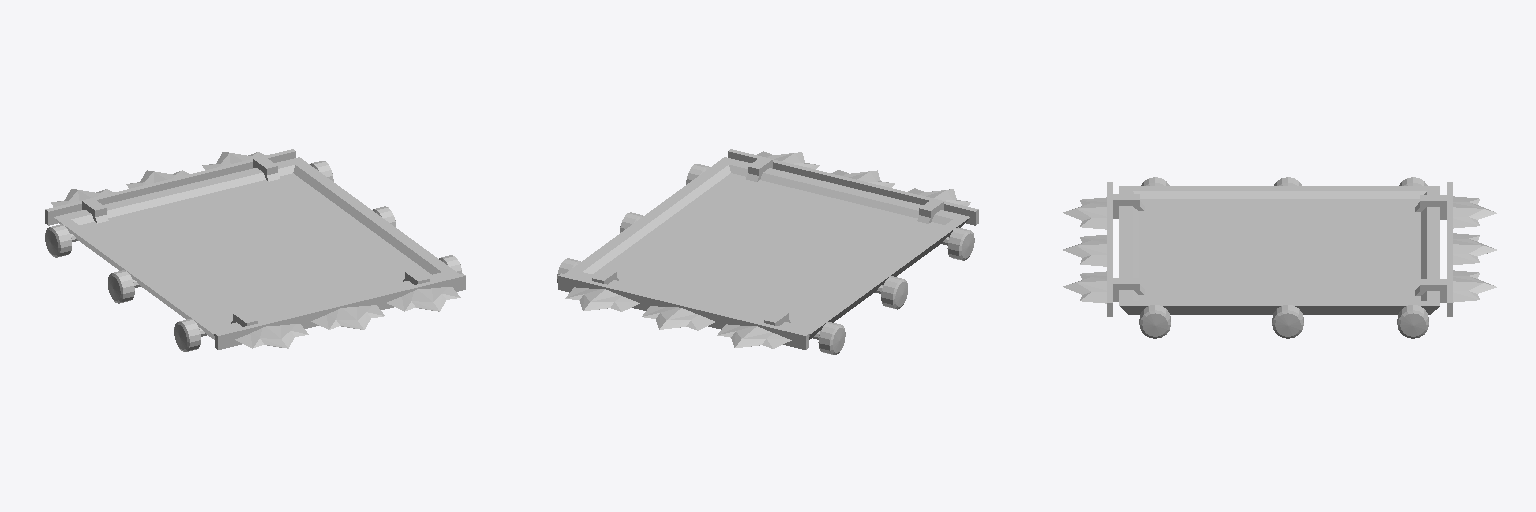
Rendered from minecart.obj.
3 views of the same model, side by side, from view 1: azimuth 30°, elevation 25°; view 2: azimuth 150°, elevation 25°; view 3: azimuth 270°, elevation 25° (orthographic).
Parts seen in each view (by area): view 1: cart, cart cartRail1, cart cartRail, cart cartRail1 cartSpike2, cart cartRail1 cartSpike, cart cartRail1 cartSpike1, cart cartSpoke2 cartWheel, cart cartSpoke cartWheel2, cart cartSpoke1 cartWheel1; view 2: cart, cart cartRail, cart cartRail1, cart cartRail cartSpike2, cart cartRail cartSpike1, cart cartRail cartSpike, cart cartSpoke cartWheel2, cart cartSpoke2 cartWheel, cart cartSpoke1 cartWheel1; view 3: cart, cart cartRail1 cartSpike2, cart cartRail1 cartSpike, cart cartRail1 cartSpike1, cart cartRail cartSpike, cart cartRail cartSpike1, cart cartRail cartSpike2, cart cartSpoke1 cartWheel4, cart cartSpoke2 cartWheel3, cart cartSpoke cartWheel5, cart cartRail, cart cartRail1.
Part boxes in pixels (left/top/right/bottom): cart: left=54, top=157, right=458, bottom=339; cart cartRail1: left=215, top=273, right=465, bottom=349; cart cartRail: left=45, top=149, right=295, bottom=225; cart cartRail1 cartSpike2: left=311, top=305, right=384, bottom=329; cart cartRail1 cartSpike: left=387, top=287, right=460, bottom=311; cart cartRail1 cartSpike1: left=235, top=324, right=308, bottom=348; cart cartSpoke2 cartWheel: left=174, top=319, right=200, bottom=351; cart cartSpoke cartWheel2: left=45, top=224, right=71, bottom=257; cart cartSpoke1 cartWheel1: left=108, top=270, right=134, bottom=303; cart: left=565, top=157, right=969, bottom=339; cart cartRail: left=558, top=273, right=808, bottom=349; cart cartRail1: left=728, top=149, right=978, bottom=225; cart cartRail cartSpike2: left=642, top=306, right=714, bottom=330; cart cartRail cartSpike1: left=565, top=287, right=639, bottom=311; cart cartRail cartSpike: left=717, top=324, right=791, bottom=348; cart cartSpoke cartWheel2: left=818, top=322, right=845, bottom=354; cart cartSpoke2 cartWheel: left=947, top=227, right=974, bottom=260; cart cartSpoke1 cartWheel1: left=881, top=276, right=907, bottom=309; cart: left=1119, top=186, right=1439, bottom=314; cart cartRail1 cartSpike2: left=1063, top=235, right=1106, bottom=266; cart cartRail1 cartSpike: left=1063, top=271, right=1106, bottom=303; cart cartRail1 cartSpike1: left=1063, top=197, right=1106, bottom=229; cart cartRail cartSpike: left=1453, top=196, right=1496, bottom=228; cart cartRail cartSpike1: left=1453, top=270, right=1496, bottom=302; cart cartRail cartSpike2: left=1453, top=233, right=1496, bottom=264; cart cartSpoke1 cartWheel4: left=1272, top=305, right=1303, bottom=338; cart cartSpoke2 cartWheel3: left=1139, top=305, right=1170, bottom=338; cart cartSpoke cartWheel5: left=1397, top=305, right=1428, bottom=338; cart cartRail: left=1447, top=182, right=1452, bottom=316; cart cartRail1: left=1107, top=182, right=1112, bottom=316.
Size of the model in its own units: 11.32 by 1.27 by 15.45.